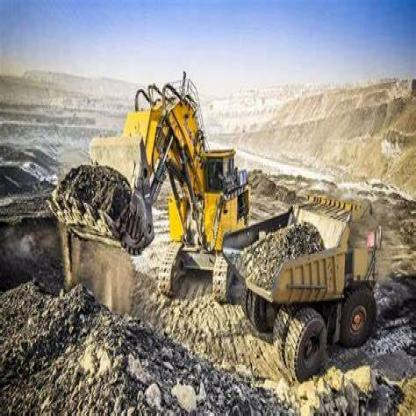dump_truck: (220, 177, 408, 385)
excavator: (46, 45, 243, 324)
